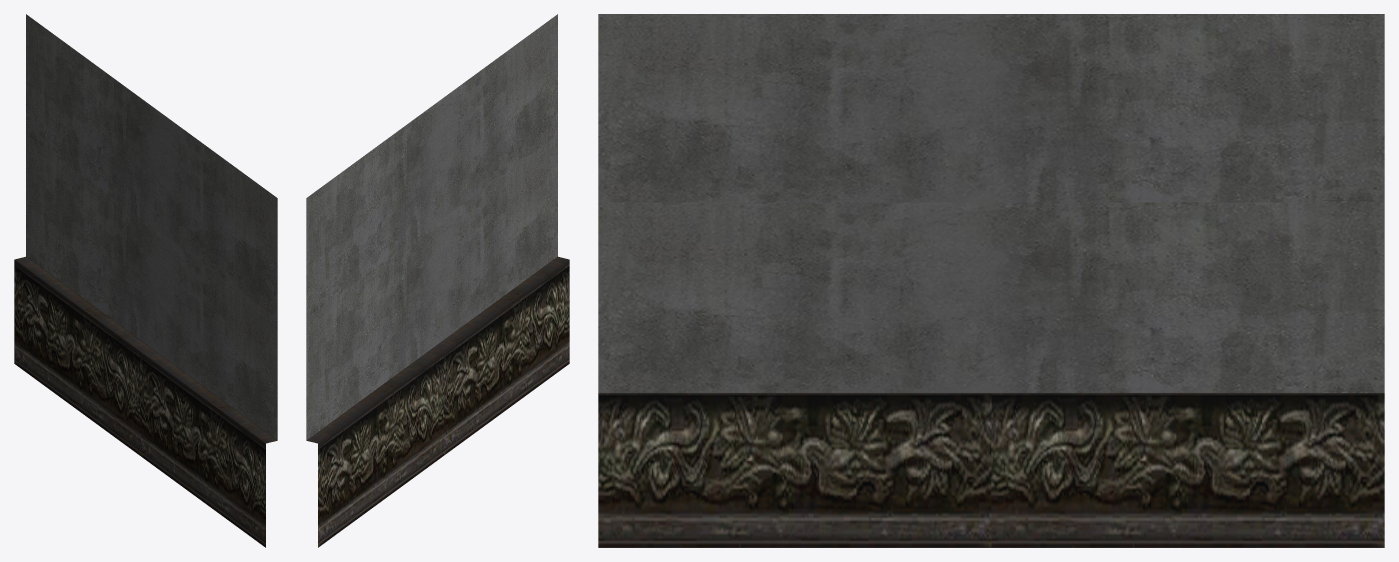
Rendered from Wall_16.FBX.
The picture shows the model from 3 angles, left to right: view 1: azimuth 30°, elevation 25°; view 2: azimuth 150°, elevation 25°; view 3: azimuth 270°, elevation 25°; orthographic projection. The views are drawn at different scales.
Visible parts, largest first — view 1: Plane001; view 2: Plane001; view 3: Plane001.
Part boxes in pixels (x1,y1,x2,y2): Plane001: (14, 14, 277, 547); Plane001: (306, 14, 569, 547); Plane001: (598, 14, 1384, 547).
Bounding box in the file's own units: 0.5221 × 15.02 × 19.73.
